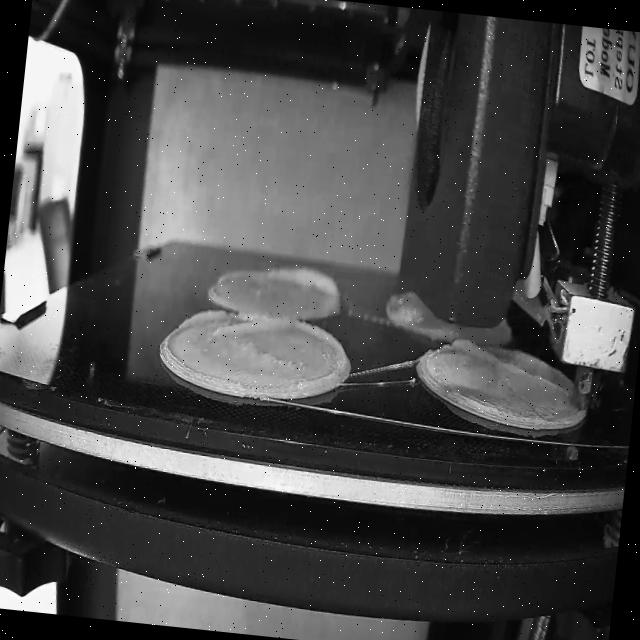over_extrusion: (450, 338, 570, 399), (177, 306, 294, 346), (292, 320, 353, 394), (262, 261, 348, 302), (211, 266, 231, 288)
